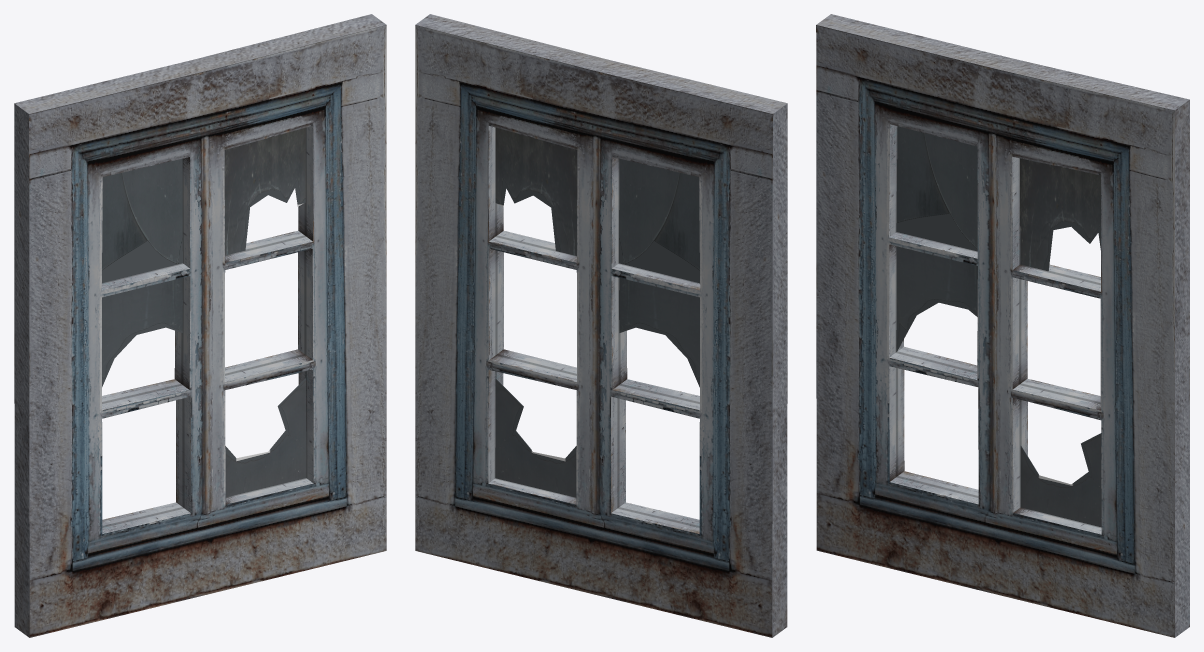
The model's file is Windows_07.fbx.
3 views of the same model, side by side, from view 1: azimuth 30°, elevation 25°; view 2: azimuth 150°, elevation 25°; view 3: azimuth 330°, elevation 25° (orthographic).
Visible parts, largest first — view 1: Windows_07, Windows_07glass (×4); view 2: Windows_07, Windows_07glass (×4); view 3: Windows_07, Windows_07glass (×4).
Boxes of the visible parts, x1,y1,x2,y2 form: Windows_07: [14, 14, 386, 637]; Windows_07glass (×4): [102, 128, 306, 497]; Windows_07: [415, 14, 787, 637]; Windows_07glass (×4): [495, 127, 699, 497]; Windows_07: [816, 14, 1189, 637]; Windows_07glass (×4): [896, 126, 1101, 527].
Size of the model in its own units: 131 by 9.46 by 184.
Materials: 2 (2 with a texture image).
